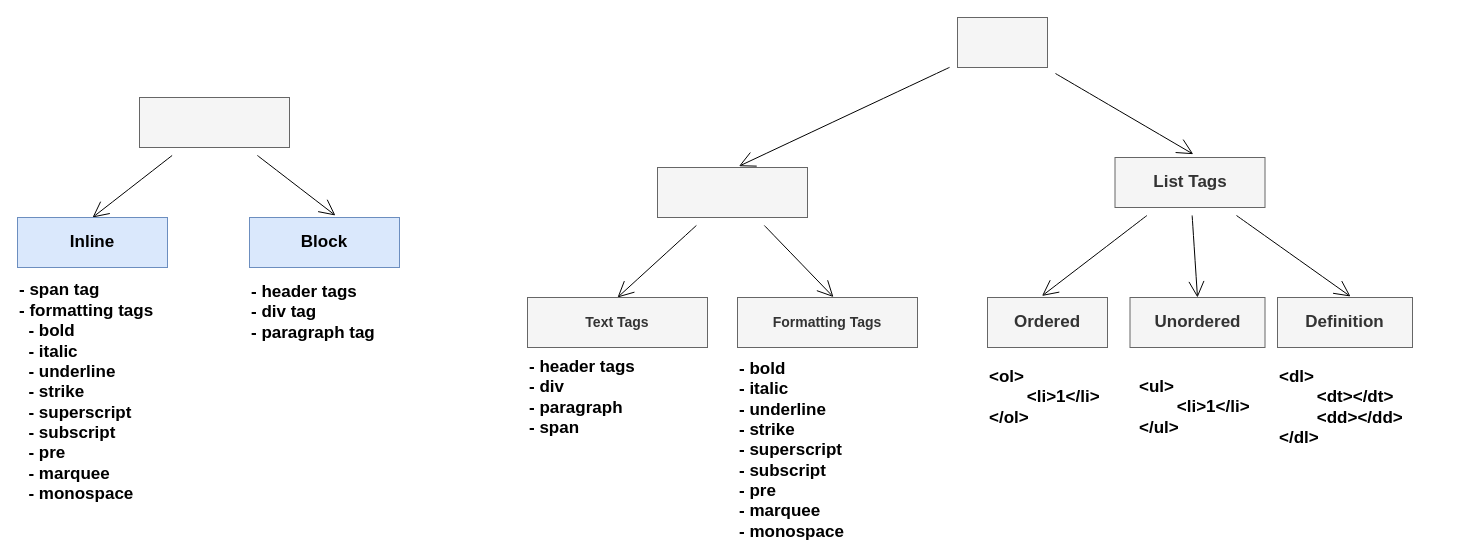
Some shapes in this 1465 by 560 pixel diagram are drawn without their labels. Here are the shapes that lost their labels. From the top down, the centre of each, then its label:
(1002,42): Tag
(214,122): Tag (Display)
(732,192): Textual Tags
